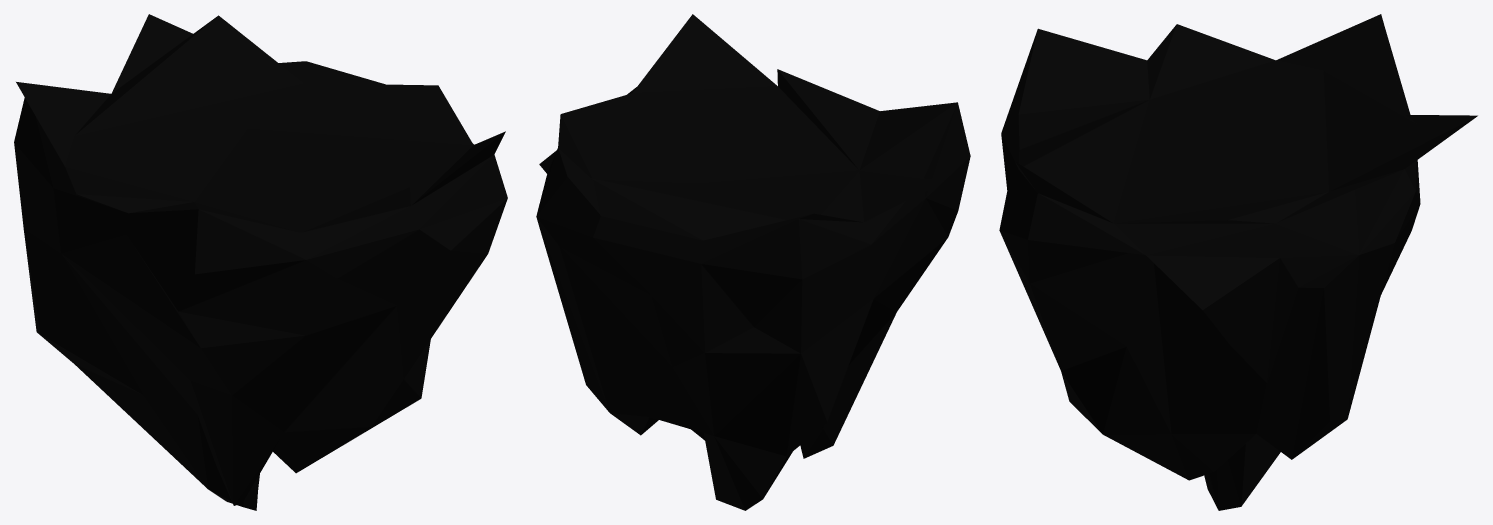
File: plane_swamp02.FBX
3 renders of one model, left to right at view 1: azimuth 30°, elevation 25°; view 2: azimuth 150°, elevation 25°; view 3: azimuth 270°, elevation 25°, orthographic. The views are drawn at different scales.
Visible parts, largest first — view 1: plane; view 2: plane; view 3: plane.
Boxes of the visible parts, bbox=[...] form: plane: bbox=[14, 14, 507, 510]; plane: bbox=[536, 14, 970, 510]; plane: bbox=[999, 14, 1477, 510].
Bounding box in the file's own units: 45.02 × 42.45 × 43.49.
Materials: 1 (1 with a texture image).
